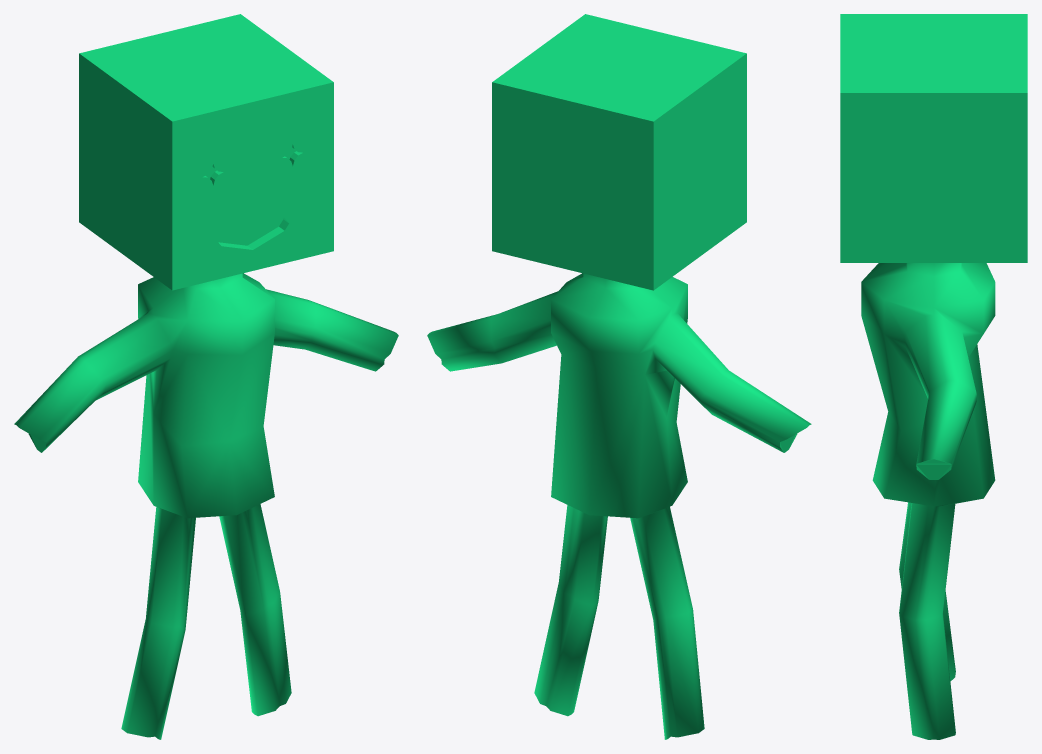
The model's file is PlayerCharacter.gltf.
3 views of the same model, side by side, from view 1: azimuth 30°, elevation 25°; view 2: azimuth 150°, elevation 25°; view 3: azimuth 270°, elevation 25° (orthographic).
Visible parts, largest first — view 1: PlayerCharacter; view 2: PlayerCharacter; view 3: PlayerCharacter.
Part boxes in pixels (box(x1,y1,x2,y2)): PlayerCharacter: box(14, 14, 398, 739); PlayerCharacter: box(427, 14, 811, 739); PlayerCharacter: box(840, 14, 1027, 739).
Size of the model in its own units: 0.7789 by 1.29 by 0.3312.
